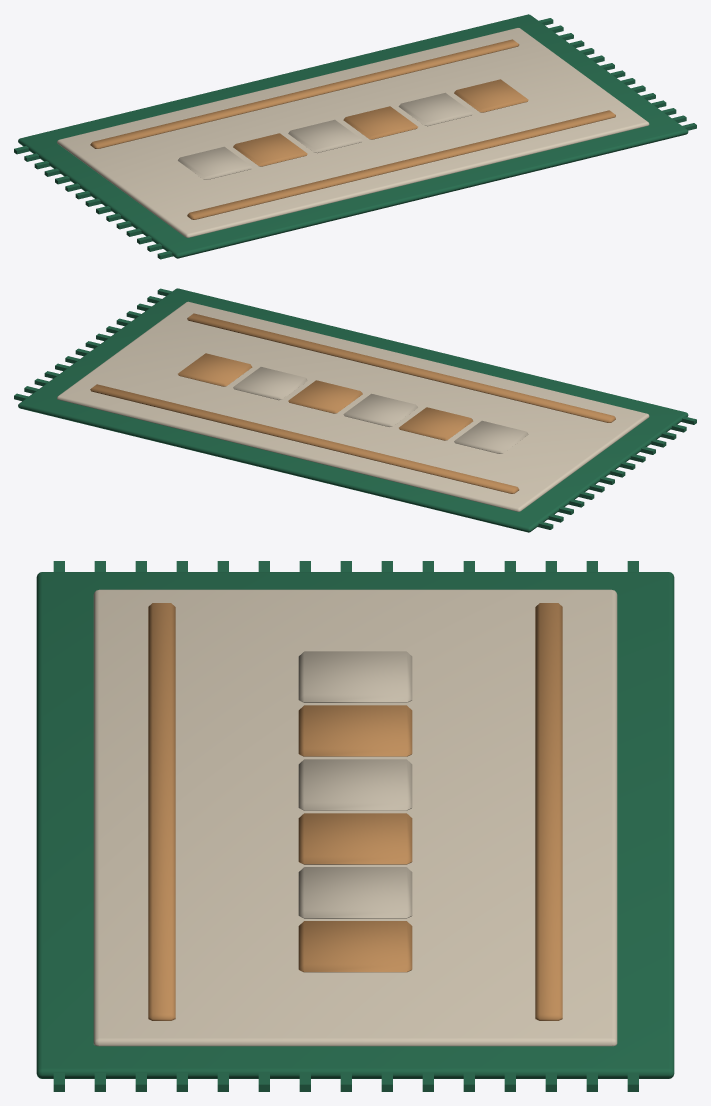
Rendered from f_rug_cafe.glb.
The picture shows the model from 3 angles, top to bottom: view 1: azimuth 30°, elevation 25°; view 2: azimuth 150°, elevation 25°; view 3: azimuth 270°, elevation 25°; orthographic projection. The views are drawn at different scales.
Visible parts, largest first — view 1: f_rug_cafe; view 2: f_rug_cafe; view 3: f_rug_cafe.
Part boxes in pixels (bbox=[...]): f_rug_cafe: bbox=[14, 14, 696, 259]; f_rug_cafe: bbox=[14, 288, 696, 532]; f_rug_cafe: bbox=[36, 561, 674, 1091].
Size of the model in its own units: 5.44 by 0.11 by 2.8.
